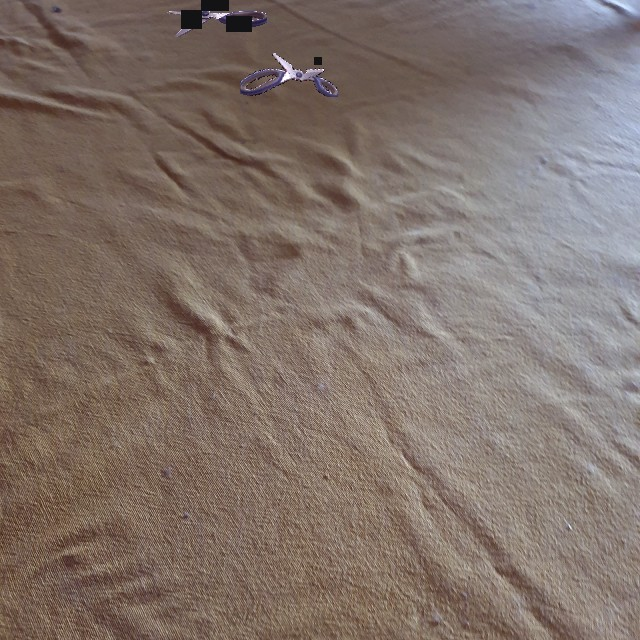scissors: (240, 53, 338, 97), (167, 0, 267, 37)
